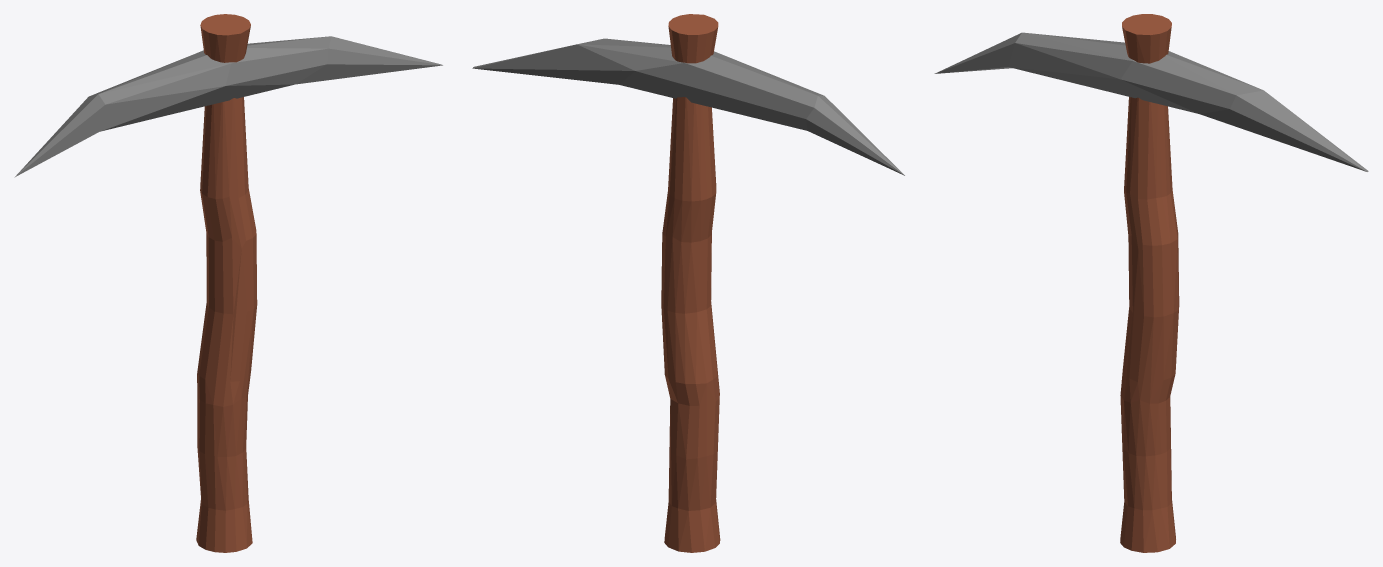
File: pickaxe.fbx
3 views of the same model, side by side, from view 1: azimuth 30°, elevation 25°; view 2: azimuth 150°, elevation 25°; view 3: azimuth 330°, elevation 25° (orthographic).
Parts seen in each view (by area): view 1: Handle, Pick; view 2: Handle, Pick; view 3: Handle, Pick.
Boxes of the visible parts, x1,y1,x2,y2 form: Handle: (196,14,257,552); Pick: (14,36,442,177); Handle: (661,14,720,552); Pick: (472,38,904,175); Handle: (1120,14,1179,552); Pick: (934,32,1368,171).
Size of the model in its own units: 44.03 by 50.42 by 5.05.
